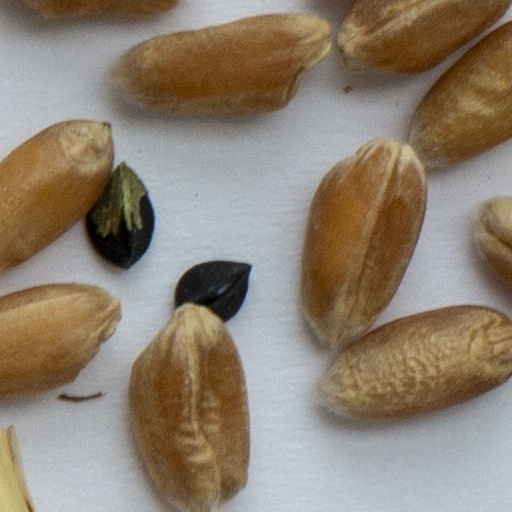Fallopia-Convolvulus-poly: (82, 160, 157, 273), (169, 252, 263, 322)
